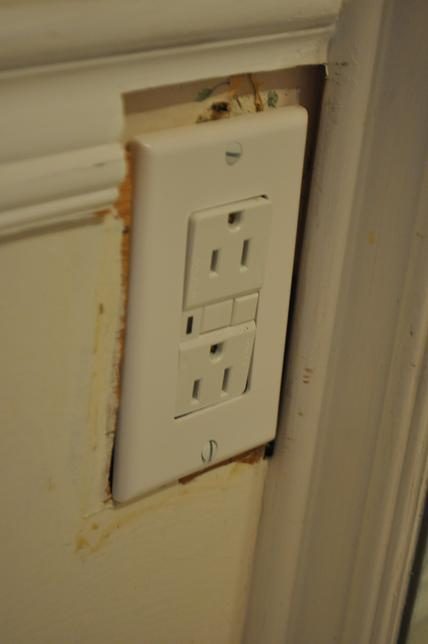outlet: (203, 206, 258, 283), (188, 337, 244, 404)
